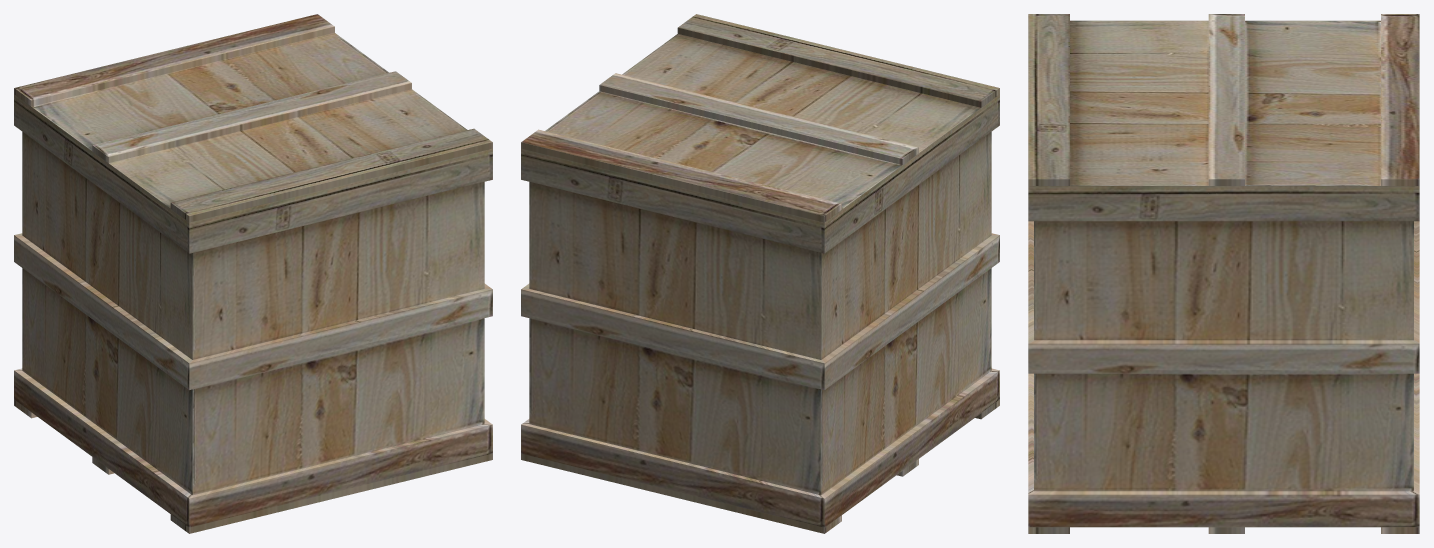
The model's file is sm_woodbox_a.fbx.
3 views of the same model, side by side, from view 1: azimuth 30°, elevation 25°; view 2: azimuth 150°, elevation 25°; view 3: azimuth 270°, elevation 25° (orthographic). The views are drawn at different scales.
Parts seen in each view (by area): view 1: sm_woodbox_a; view 2: sm_woodbox_a; view 3: sm_woodbox_a.
Boxes of the visible parts, x1=… form: sm_woodbox_a: x1=14, y1=14, x2=492, y2=533; sm_woodbox_a: x1=521, y1=14, x2=999, y2=533; sm_woodbox_a: x1=1028, y1=14, x2=1419, y2=533.
Size of the model in its own units: 1 by 1 by 1.
1 material, 1 textured.
